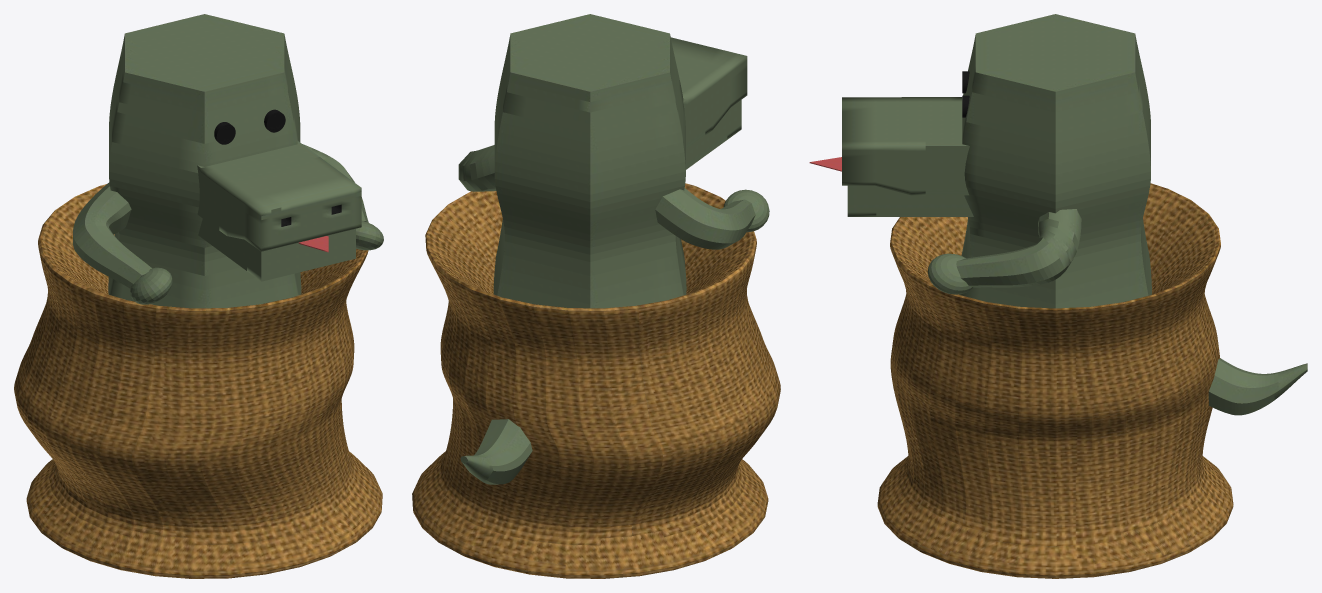
The model's file is como.fbx.
The picture shows the model from 3 angles, left to right: view 1: azimuth 30°, elevation 25°; view 2: azimuth 150°, elevation 25°; view 3: azimuth 270°, elevation 25°; orthographic projection.
Visible parts, largest first — view 1: como; view 2: como; view 3: como.
Part boxes in pixels (x1=…): como: x1=14, y1=14, x2=383, y2=578; como: x1=412, y1=14, x2=780, y2=578; como: x1=809, y1=14, x2=1307, y2=578.
Size of the model in its own units: 768 by 1066 by 1028.
Materials: 1 (1 with a texture image).
